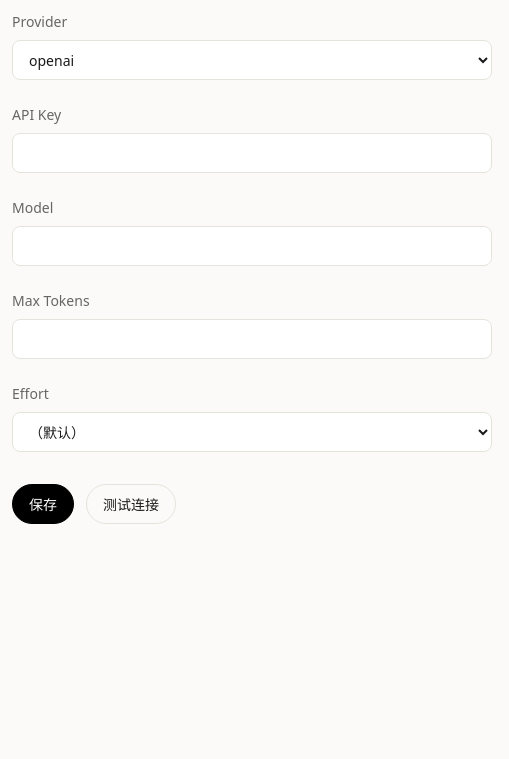
Test: ProviderForm 测试连接 › 失败原因含 connection error 时经 Toast 展示「LLM 连接失败」
The image size is (509, 759).
What coordinates should you click on to do the following:
click the button "测试连接"
I would click on:
 (131, 504)
Its box is [86,484,176,524].
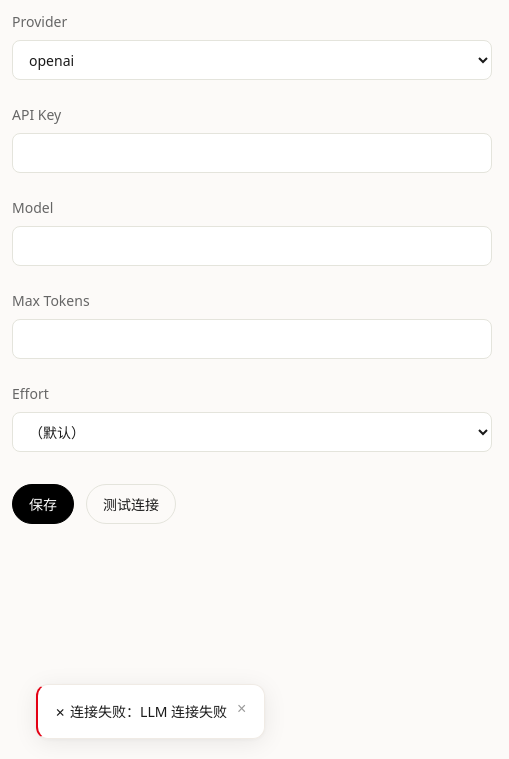
Now the text "✗ 连接失败：LLM 连接失败" is shown, box [54,701,227,722]
